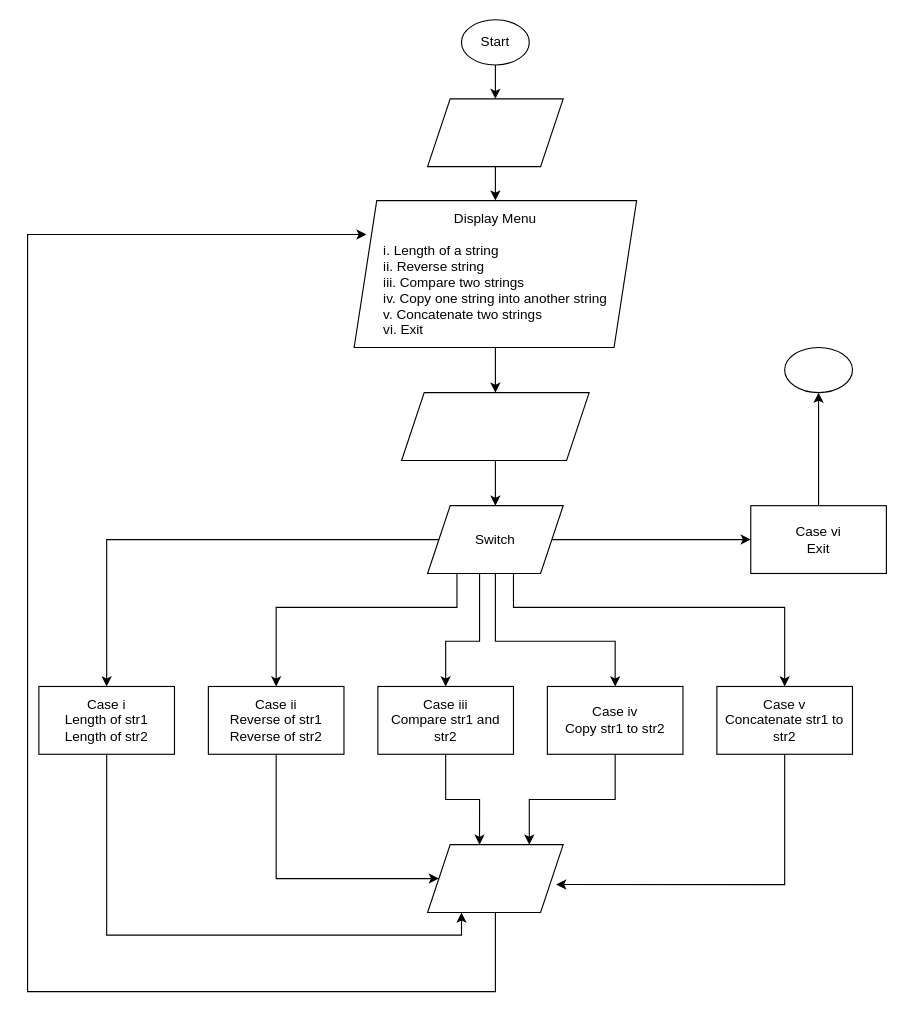
The diagram is 906 pixels wide and 1020 high, and some of its shapes have lost their labels. Here are the shapes that lost their labels. From the top down, the centre of each, then its label:
the point at 494,132: Input str1 and str2
the point at 818,369: Stop
the point at 494,426: Read choice from user
the point at 494,878: Display Output
